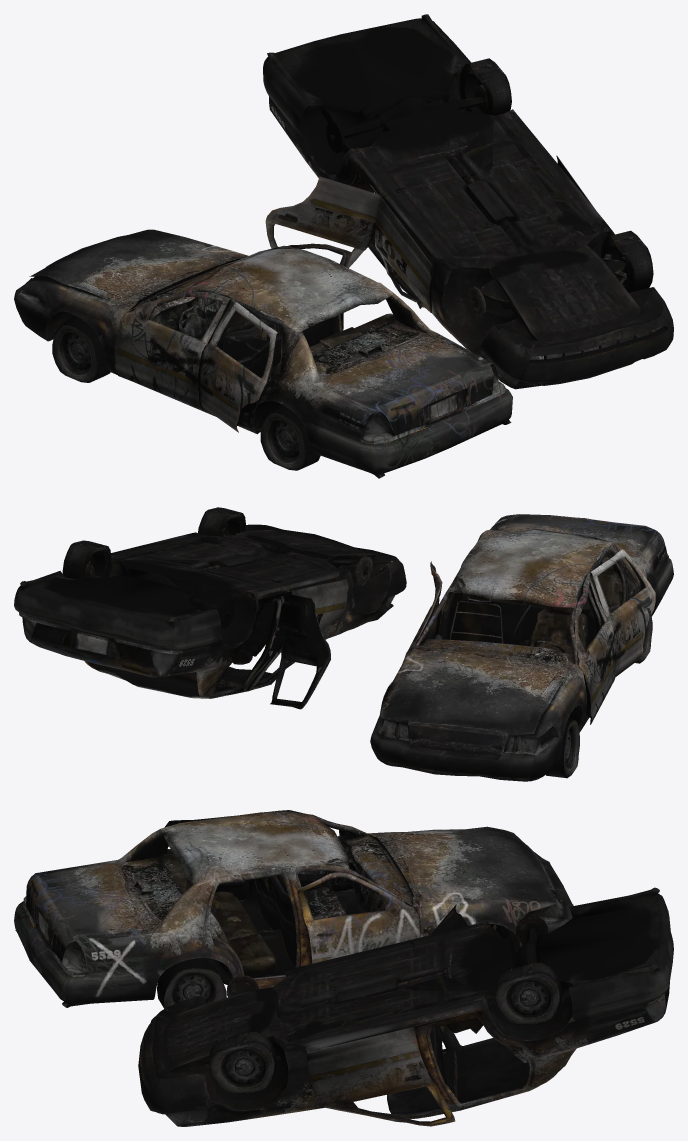
The model's file is burned_police_cars.glb.
3 views of the same model, one above another, from view 1: azimuth 30°, elevation 25°; view 2: azimuth 150°, elevation 25°; view 3: azimuth 270°, elevation 25° (orthographic). The views are drawn at different scales.
Visible parts, largest first — view 1: Object005_Material #99_0, Object004_Material #98_0; view 2: Object004_Material #98_0, Object005_Material #99_0; view 3: Object005_Material #99_0, Object004_Material #98_0.
Part boxes in pixels (bbox=[...]): Object005_Material #99_0: bbox=[263, 14, 673, 389]; Object004_Material #98_0: bbox=[14, 229, 512, 478]; Object004_Material #98_0: bbox=[370, 514, 673, 781]; Object005_Material #99_0: bbox=[14, 507, 406, 709]; Object005_Material #99_0: bbox=[138, 887, 673, 1126]; Object004_Material #98_0: bbox=[14, 810, 573, 1008].
Bounding box in the file's own units: 601 × 197 × 690.
Materials: 2 (2 with a texture image).
